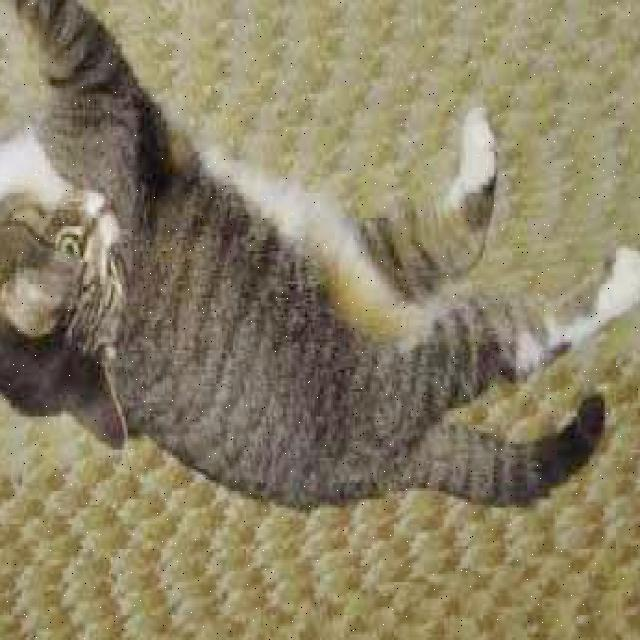Cat: (0, 116, 137, 438)
